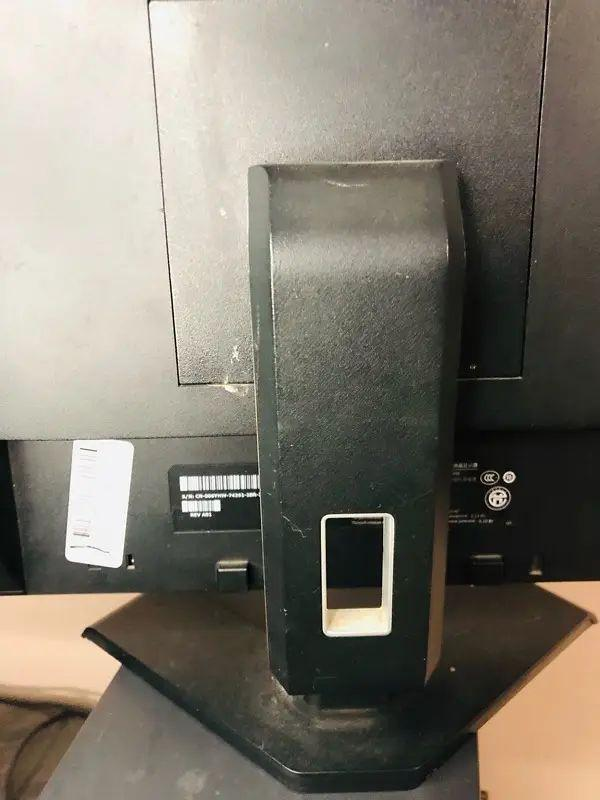electronic: (0, 0, 600, 799)
